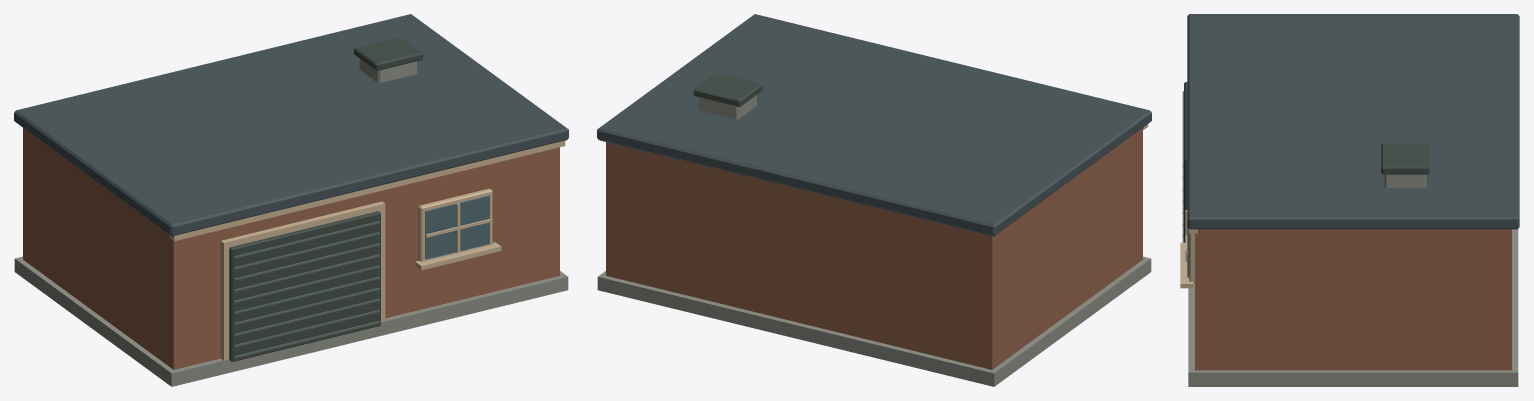
Rendered from brick_workshop.glb.
3 views of the same model, side by side, from view 1: azimuth 30°, elevation 25°; view 2: azimuth 150°, elevation 25°; view 3: azimuth 270°, elevation 25° (orthographic). The views are drawn at different scales.
Visible parts, largest first — view 1: brick_workshop; view 2: brick_workshop; view 3: brick_workshop.
Part boxes in pixels (<box>): brick_workshop: <box>14,14,568,386</box>; brick_workshop: <box>597,14,1151,386</box>; brick_workshop: <box>1180,14,1519,386</box>.
Size of the model in its own units: 8.65 by 3.8 by 6.06.
